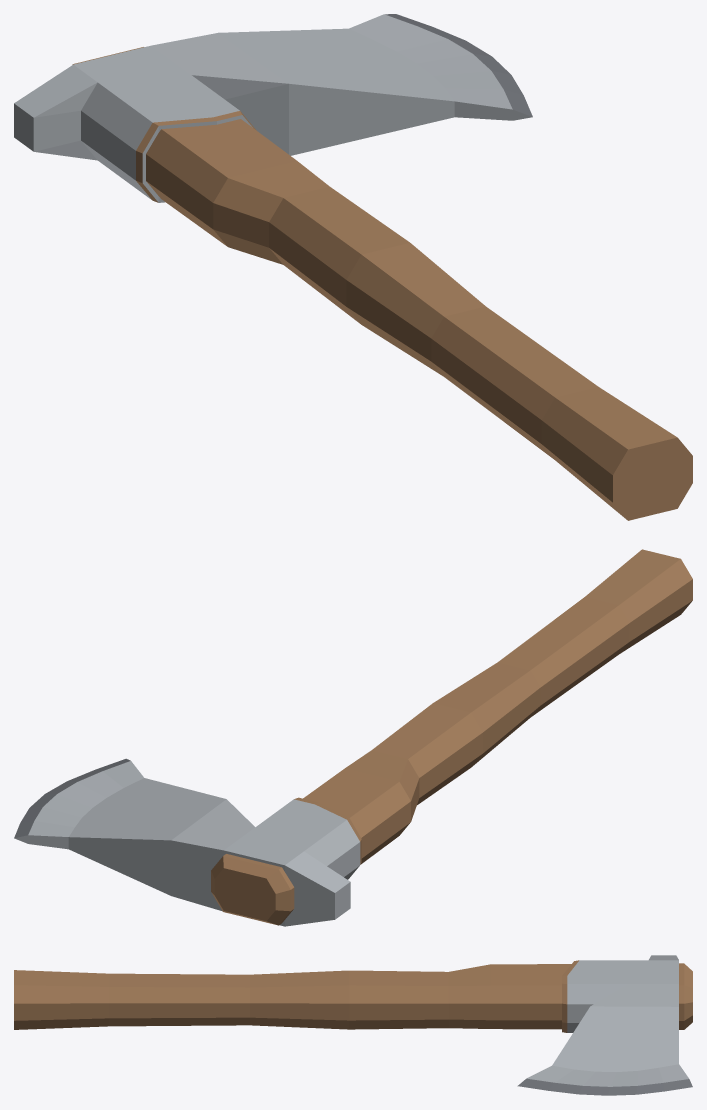
The model's file is SM_FP_Axe.glb.
The picture shows the model from 3 angles, top to bottom: view 1: azimuth 30°, elevation 25°; view 2: azimuth 150°, elevation 25°; view 3: azimuth 270°, elevation 25°; orthographic projection. The views are drawn at different scales.
Parts seen in each view (by area): view 1: SM_FP_Axe; view 2: SM_FP_Axe; view 3: SM_FP_Axe.
Boxes of the visible parts, <box> form: SM_FP_Axe: <box>14,14,692,520</box>; SM_FP_Axe: <box>14,549,692,926</box>; SM_FP_Axe: <box>14,955,692,1095</box>.
Bounding box in the file's own units: 0.2823 × 0.0497 × 0.6234.
